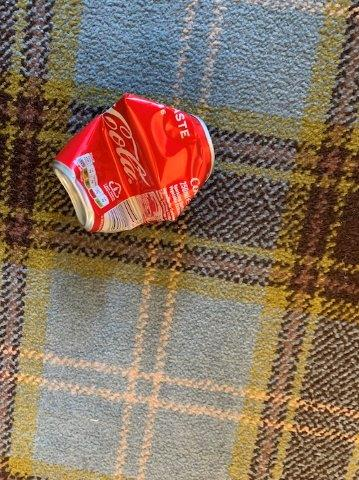kaleng: (53, 93, 215, 233)
